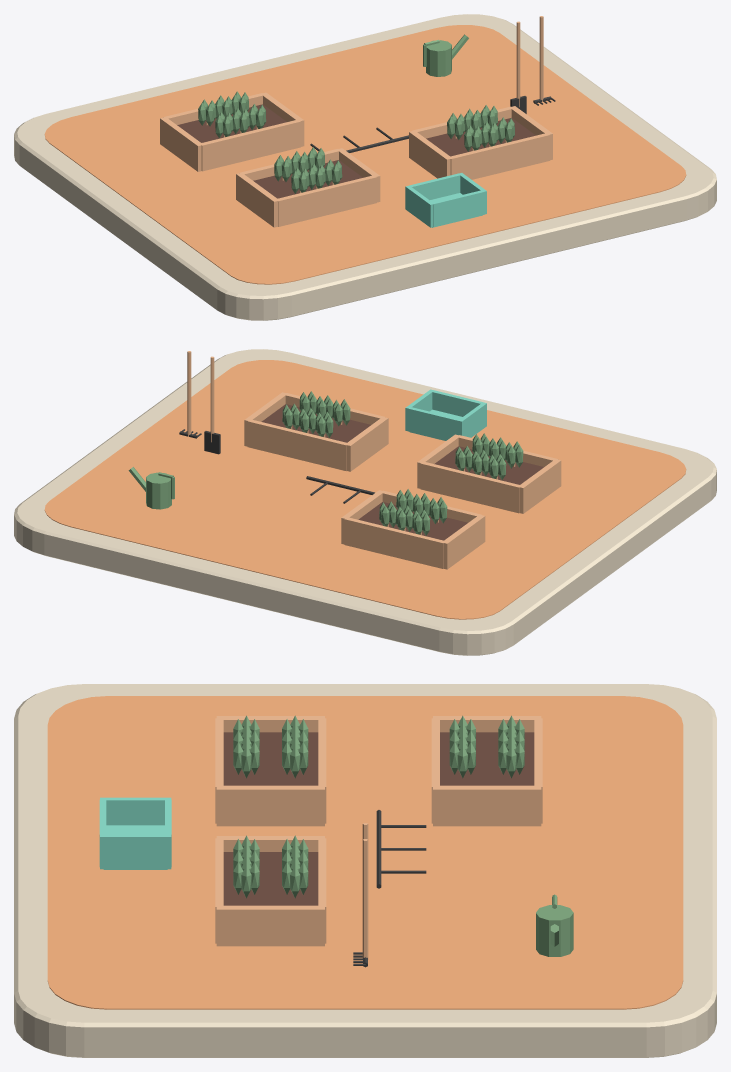
3 views of the same model, one above another, from view 1: azimuth 30°, elevation 25°; view 2: azimuth 150°, elevation 25°; view 3: azimuth 270°, elevation 25° (orthographic). The views are drawn at different scales.
Visible parts, largest first — view 1: COM-02 Floor Surface, COM-01 Rounded Base Direct, Border.010, Border.002, Border.006, Bin end, Border.008, Border, Border.004, Soil.001, Soil, Soil.002 (+9 smaller); view 2: COM-02 Floor Surface, COM-01 Rounded Base Direct, Border.003, Border.011, Border.007, Border, Border.004, Border.008, Bin end.001, Soil.001, Soil.002, Soil (+9 smaller); view 3: COM-02 Floor Surface, COM-01 Rounded Base Direct, Border.005, Border.001, Border.009, Soil.001, Soil, Soil.002, Bin side.001, Bin side, Can, Border (+10 smaller).
Part boxes in pixels (x1,y1,x2,y2): COM-02 Floor Surface: (44, 25, 686, 284); COM-01 Rounded Base Direct: (14, 14, 716, 320); Border.010: (201, 119, 300, 171); Border.002: (276, 175, 376, 226); Border.006: (448, 133, 549, 179); Bin end: (432, 190, 484, 226); Border.008: (160, 117, 203, 171); Border: (236, 172, 278, 227); Border.004: (409, 130, 452, 178); Soil.001: (426, 117, 535, 156); Soil: (253, 160, 362, 198); Soil.002: (177, 104, 286, 142); COM-02 Floor Surface: (44, 360, 686, 619); COM-01 Rounded Base Direct: (14, 349, 716, 655); Border.003: (420, 461, 521, 513); Border.011: (344, 517, 443, 568); Border.007: (247, 420, 347, 471); Border: (518, 459, 561, 513); Border.004: (346, 417, 388, 471); Border.008: (442, 515, 485, 569); Bin end.001: (408, 407, 460, 440); Soil.001: (261, 404, 370, 442); Soil.002: (358, 502, 467, 540); Soil: (434, 446, 543, 484); COM-02 Floor Surface: (47, 696, 683, 1009); COM-01 Rounded Base Direct: (14, 684, 716, 1057); Border.005: (216, 905, 324, 946); Border.001: (216, 785, 324, 826); Border.009: (433, 785, 541, 826); Soil.001: (223, 852, 318, 905); Soil: (223, 732, 318, 785); Soil.002: (440, 732, 534, 785); Bin side.001: (100, 834, 171, 869); Bin side: (100, 797, 171, 825); Can: (536, 905, 573, 956); Border: (216, 716, 324, 732).
Bounding box in the file's own units: 6 × 1.4 × 5.2.
1 material, 1 textured.
